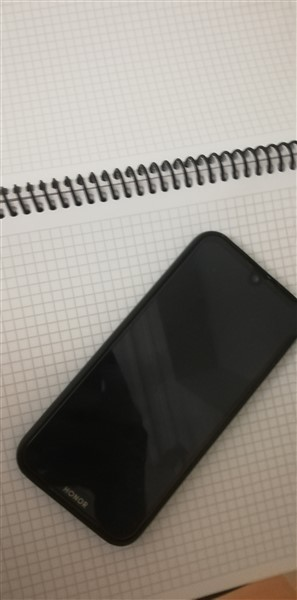telefon: (11, 224, 297, 552)
